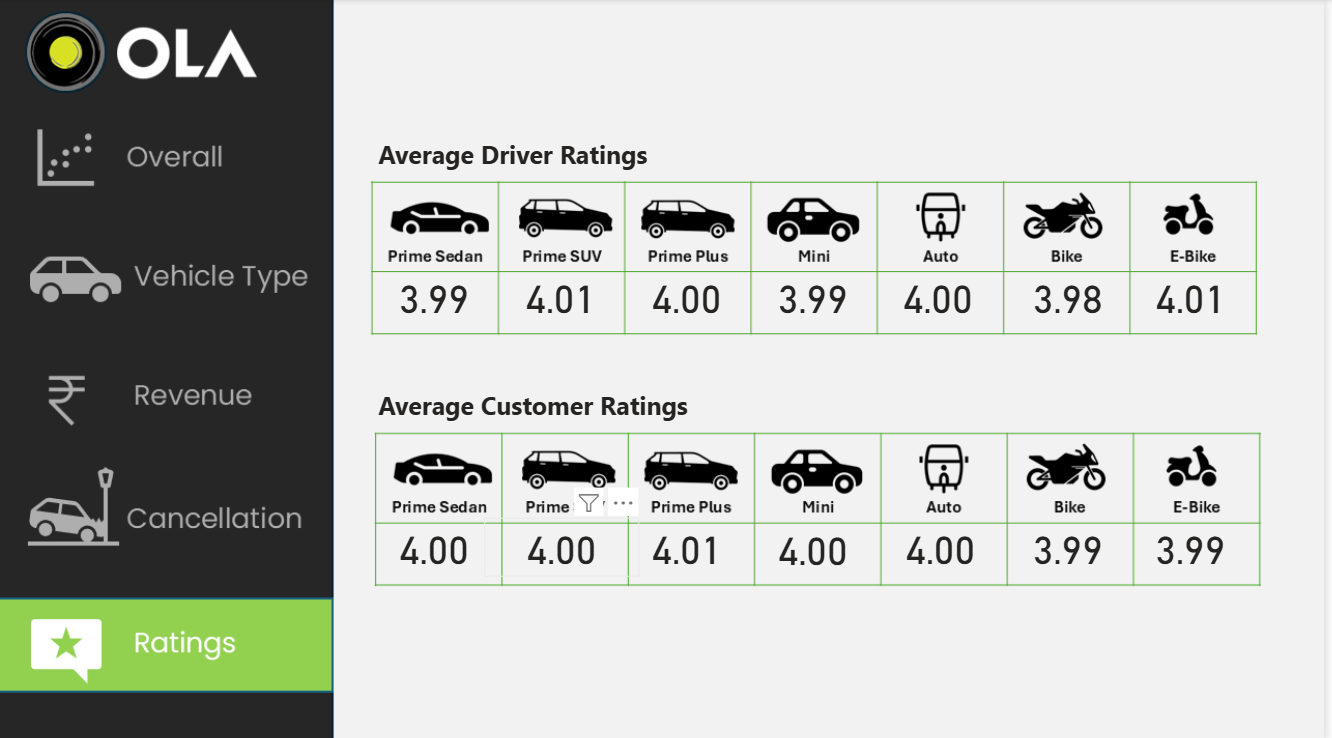

Layout of this report page (visuals, bound fields, positions):
{"tool":"powerbi","page":{"name":"Ratings","canvas":[1280,720],"ordinal":4},"visuals":[{"type":"actionButton","box":[0,445.2,319.7,92.9],"z":0},{"type":"actionButton","box":[1.2,336.6,319.7,92.9],"z":1000},{"type":"actionButton","box":[2.4,222,319.7,92.9],"z":2000},{"type":"actionButton","box":[2.4,105,319.7,92.9],"z":3000},{"type":"card","fields":{"Values":["Avg(Bookings.Driver_Ratings)"]},"box":[345.8,258,149.6,57.6],"z":4000},{"type":"card","fields":{"Values":["Avg(Bookings.Driver_Ratings)"]},"box":[467.9,258,149.6,57.6],"z":5000},{"type":"card","fields":{"Values":["Avg(Bookings.Driver_Ratings)"]},"box":[590.1,258,149.6,57.6],"z":6000},{"type":"card","fields":{"Values":["Avg(Bookings.Driver_Ratings)"]},"box":[712.2,258,149.6,57.6],"z":7000},{"type":"card","fields":{"Values":["Avg(Bookings.Driver_Ratings)"]},"box":[832.9,258,149.6,57.6],"z":8000},{"type":"card","fields":{"Values":["Avg(Bookings.Driver_Ratings)"]},"box":[957.8,258,149.6,57.6],"z":9000},{"type":"card","fields":{"Values":["Avg(Bookings.Driver_Ratings)"]},"box":[1075.8,258,149.6,57.6],"z":10000},{"type":"textbox","box":[362.3,129,303.3,43.9],"z":11000},{"type":"textbox","box":[362.3,371.9,349.9,43.9],"z":12000},{"type":"card","fields":{"Values":["Avg(Bookings.Customer_Rating)"]},"box":[345.8,500.9,149.6,56.3],"z":13000},{"type":"card","fields":{"Values":["Avg(Bookings.Customer_Rating)"]},"box":[957.8,500.9,149.6,56.3],"z":14000},{"type":"card","fields":{"Values":["Avg(Bookings.Customer_Rating)"]},"box":[834.3,500.9,149.6,56.3],"z":15000},{"type":"card","fields":{"Values":["Avg(Bookings.Customer_Rating)"]},"box":[712.2,502.2,149.6,56.3],"z":16000},{"type":"card","fields":{"Values":["Avg(Bookings.Customer_Rating)"]},"box":[590.1,500.9,149.6,56.3],"z":17000},{"type":"card","fields":{"Values":["Avg(Bookings.Customer_Rating)"]},"box":[469.3,500.9,149.6,56.3],"z":18000},{"type":"card","fields":{"Values":["Avg(Bookings.Customer_Rating)"]},"box":[1075.8,500.9,149.6,56.3],"z":19000}]}

Visuals, with their boxes on the page's 1280x720 design canvas (x1, y1, x2, y2). These are canvas units, not pixel positions in the 1332x738 screenshot, which may show the page scaled, cropped or inside an application window:
actionButton: [0,445,320,538]
actionButton: [1,337,321,430]
actionButton: [2,222,322,315]
actionButton: [2,105,322,198]
card - Avg(Bookings.Driver_Ratings): [346,258,495,316]
card - Avg(Bookings.Driver_Ratings): [468,258,618,316]
card - Avg(Bookings.Driver_Ratings): [590,258,740,316]
card - Avg(Bookings.Driver_Ratings): [712,258,862,316]
card - Avg(Bookings.Driver_Ratings): [833,258,982,316]
card - Avg(Bookings.Driver_Ratings): [958,258,1107,316]
card - Avg(Bookings.Driver_Ratings): [1076,258,1225,316]
textbox: [362,129,666,173]
textbox: [362,372,712,416]
card - Avg(Bookings.Customer_Rating): [346,501,495,557]
card - Avg(Bookings.Customer_Rating): [958,501,1107,557]
card - Avg(Bookings.Customer_Rating): [834,501,984,557]
card - Avg(Bookings.Customer_Rating): [712,502,862,558]
card - Avg(Bookings.Customer_Rating): [590,501,740,557]
card - Avg(Bookings.Customer_Rating): [469,501,619,557]
card - Avg(Bookings.Customer_Rating): [1076,501,1225,557]
